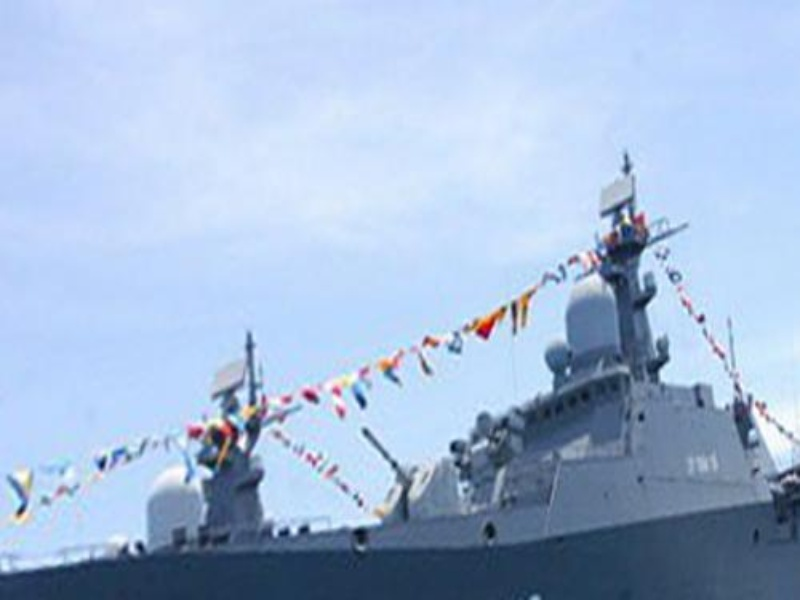cruise: (60, 160, 800, 599)
